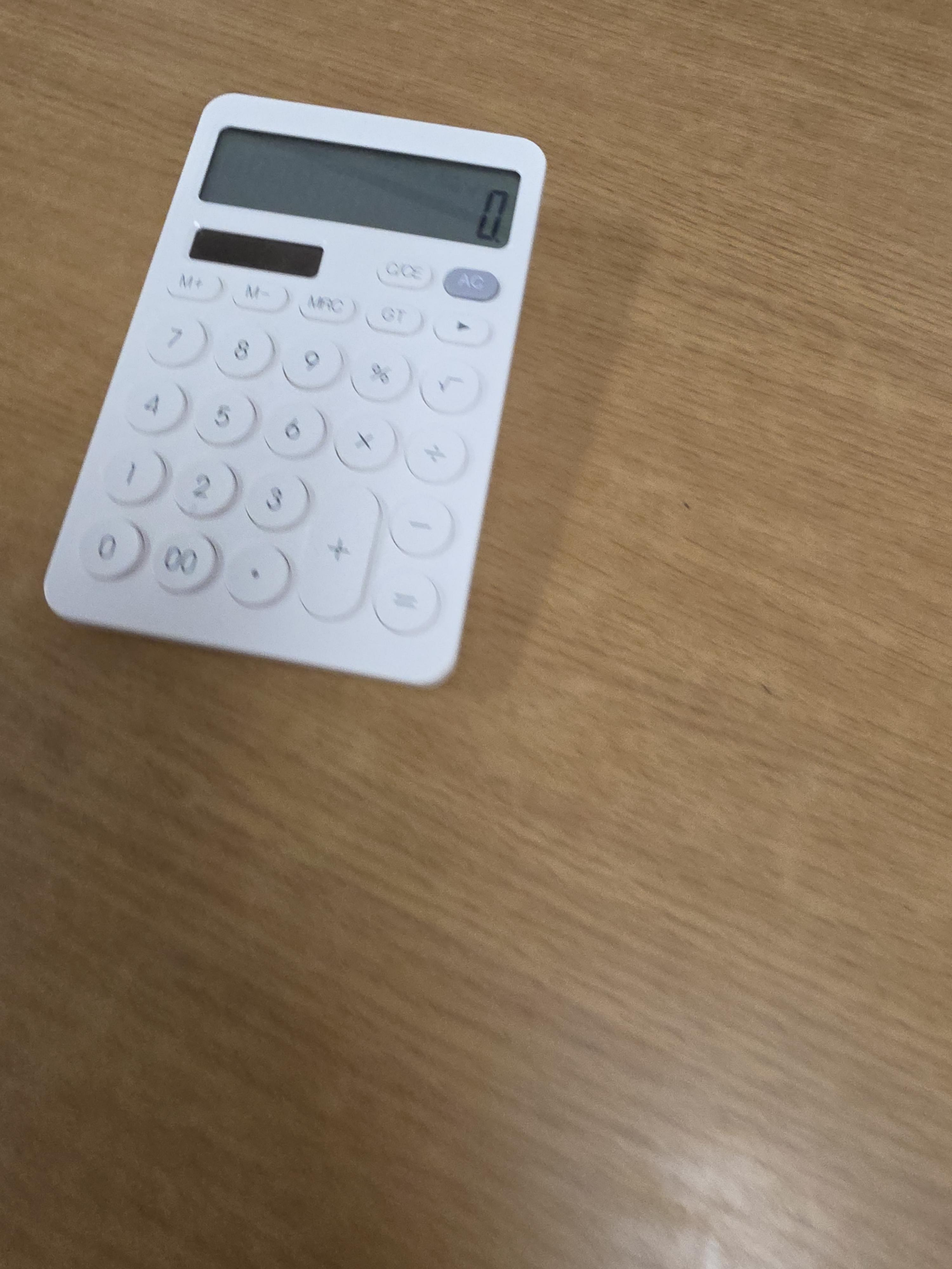calculator: (43, 92, 547, 689)
